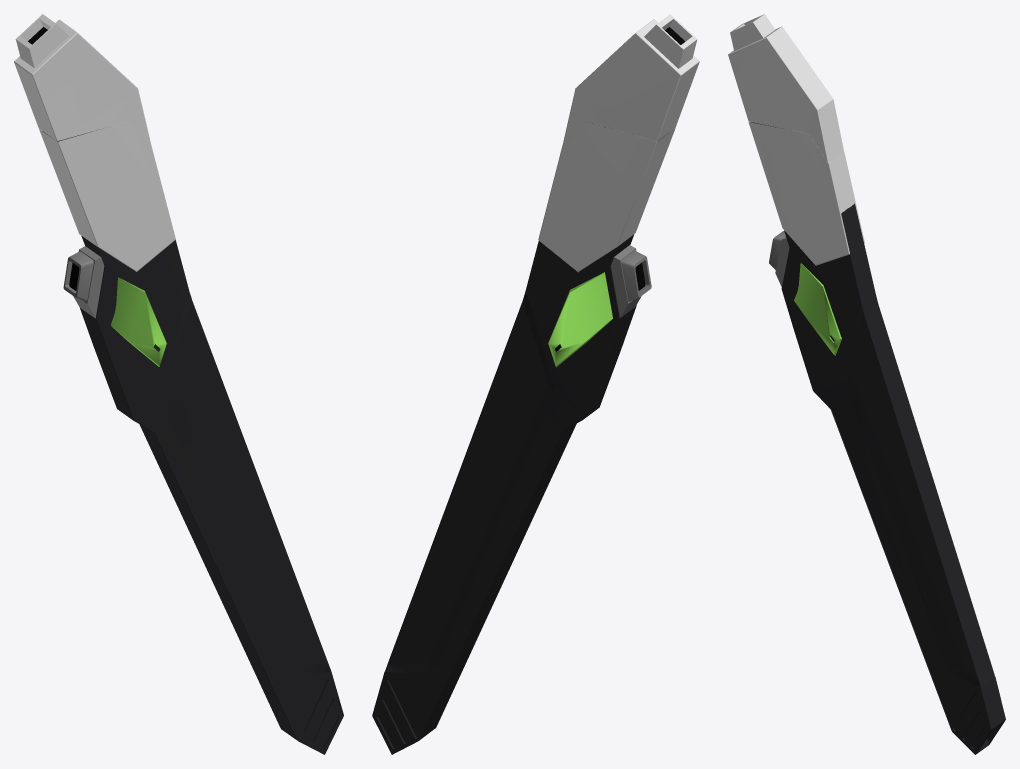
The model's file is rightGun.obj.
3 renders of one model, left to right at view 1: azimuth 30°, elevation 25°; view 2: azimuth 150°, elevation 25°; view 3: azimuth 330°, elevation 25°, orthographic. The views are drawn at different scales.
Visible parts, largest first — view 1: rightGun freedom:ChafCaja1269, rightGun freedom:Malla07, freedom:ChafCaja1272 rightGun, rightGun freedom:Caja598, rightGun freedom:ChafCaja1270, rightGun freedom:ChafCaja1271; view 2: rightGun freedom:ChafCaja1269, rightGun freedom:Malla07, freedom:ChafCaja1272 rightGun, rightGun freedom:Caja599, rightGun freedom:ChafCaja1270, rightGun freedom:ChafCaja1271; view 3: rightGun freedom:ChafCaja1269, freedom:ChafCaja1272 rightGun, rightGun freedom:Malla07, rightGun freedom:Caja598.
Part boxes in pixels (box(x1,y1,x2,y2)): rightGun freedom:ChafCaja1269: box(42, 129, 343, 754); rightGun freedom:Malla07: box(39, 121, 175, 271); freedom:ChafCaja1272 rightGun: box(14, 14, 151, 144); rightGun freedom:Caja598: box(111, 277, 166, 366); rightGun freedom:ChafCaja1270: box(63, 251, 93, 301); rightGun freedom:ChafCaja1271: box(73, 246, 104, 318); rightGun freedom:ChafCaja1269: box(372, 122, 669, 754); rightGun freedom:Malla07: box(538, 121, 675, 272); freedom:ChafCaja1272 rightGun: box(562, 14, 699, 144); rightGun freedom:Caja599: box(548, 272, 612, 367); rightGun freedom:ChafCaja1270: box(621, 250, 651, 301); rightGun freedom:ChafCaja1271: box(611, 245, 641, 318); rightGun freedom:ChafCaja1269: box(751, 122, 1005, 754); freedom:ChafCaja1272 rightGun: box(728, 14, 844, 163); rightGun freedom:Malla07: box(748, 121, 864, 265); rightGun freedom:Caja598: box(794, 263, 841, 355).
Bounding box in the file's own units: 45.23 × 110 × 5.04.
